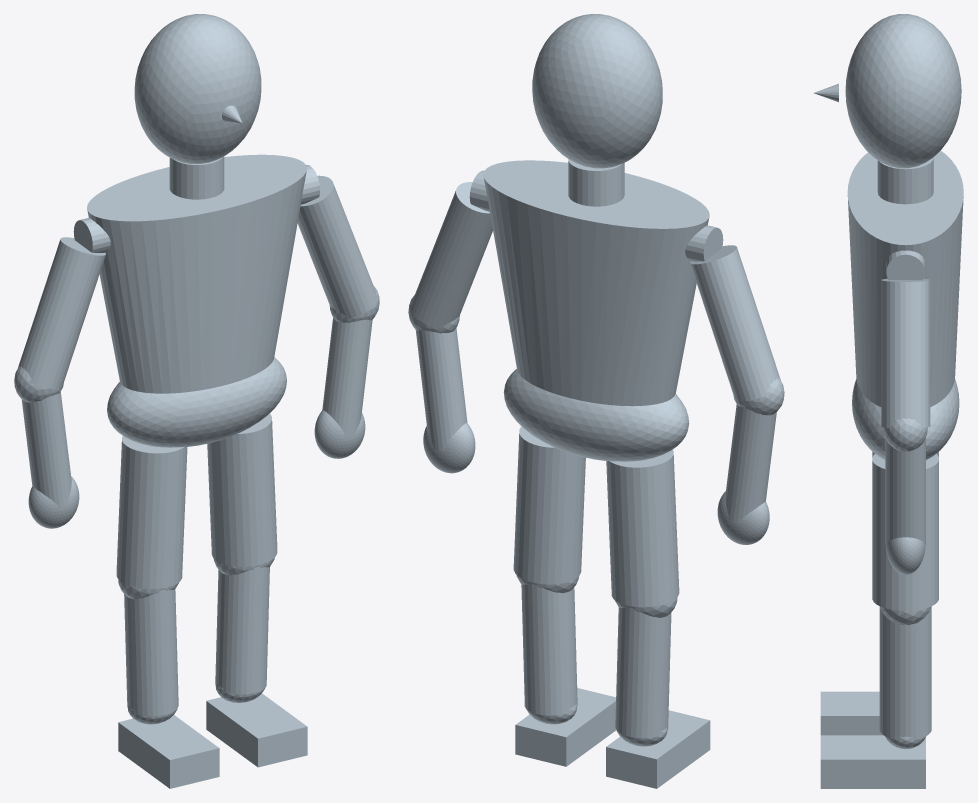
The model's file is human.glb.
The picture shows the model from 3 angles, left to right: view 1: azimuth 30°, elevation 25°; view 2: azimuth 150°, elevation 25°; view 3: azimuth 270°, elevation 25°; orthographic projection. The views are drawn at different scales.
Parts seen in each view (by area): view 1: standing_humanoid_lowpoly_apose_front_neg_y; view 2: standing_humanoid_lowpoly_apose_front_neg_y; view 3: standing_humanoid_lowpoly_apose_front_neg_y.
Boxes of the visible parts, box(x1,y1,x2,y2) form: standing_humanoid_lowpoly_apose_front_neg_y: box(14, 14, 379, 788); standing_humanoid_lowpoly_apose_front_neg_y: box(408, 14, 784, 788); standing_humanoid_lowpoly_apose_front_neg_y: box(813, 14, 963, 788).
Size of the model in its own units: 0.984 by 1.89 by 0.35.
